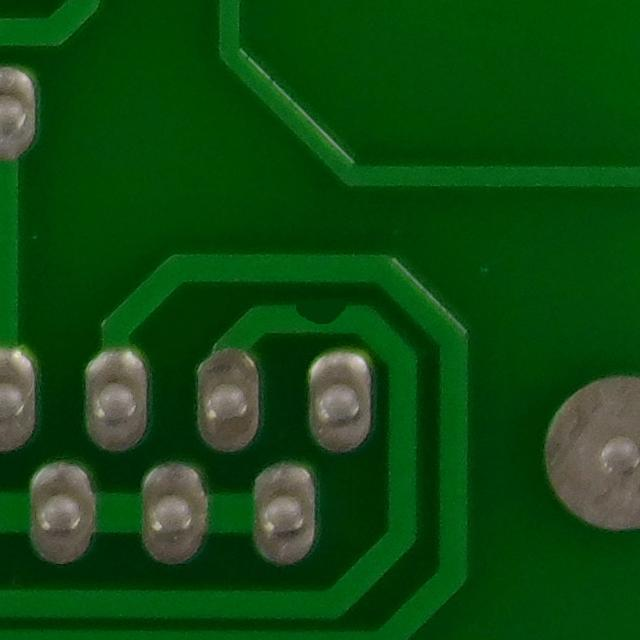mouse_bite: (280, 292, 360, 348)
